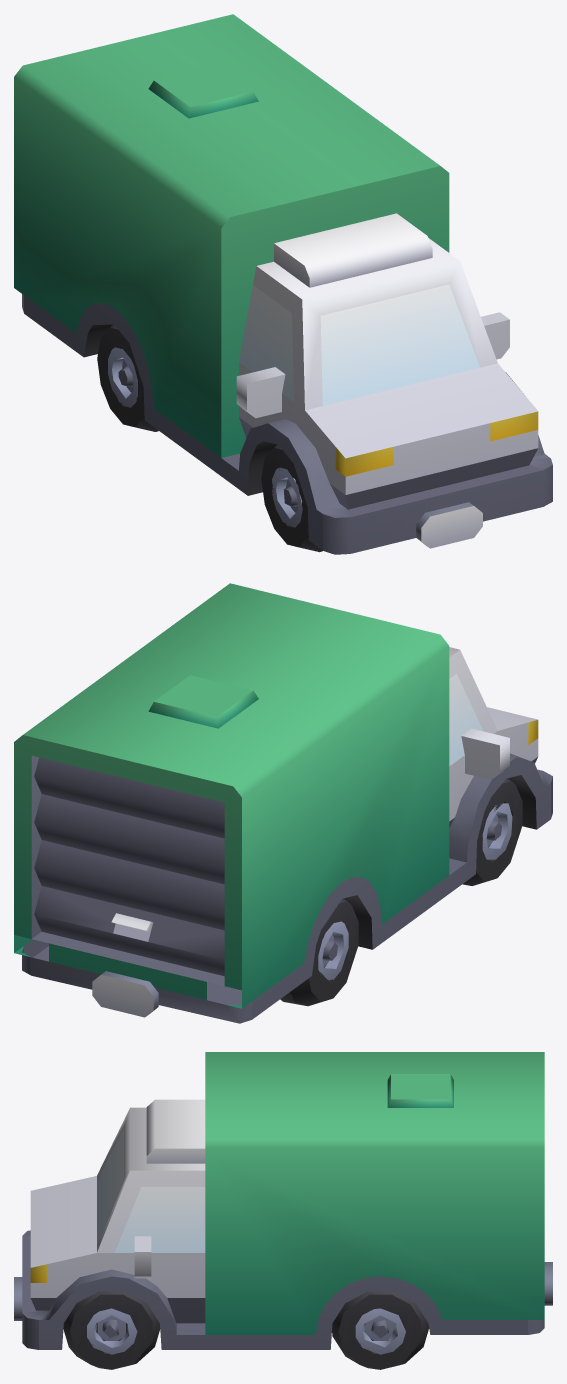
Rendered from cc0-delivery-lod1.glb.
3 views of the same model, one above another, from view 1: azimuth 30°, elevation 25°; view 2: azimuth 150°, elevation 25°; view 3: azimuth 270°, elevation 25° (orthographic). The views are drawn at different scales.
Visible parts, largest first — view 1: part_0; view 2: part_0; view 3: part_0.
Boxes of the visible parts, box(x1,y1,x2,y2) form: part_0: box(14, 14, 552, 554); part_0: box(14, 583, 552, 1023); part_0: box(14, 1052, 552, 1369).
Bounding box in the file's own units: 1.5 × 1.65 × 3.25.
1 material, 1 textured.
